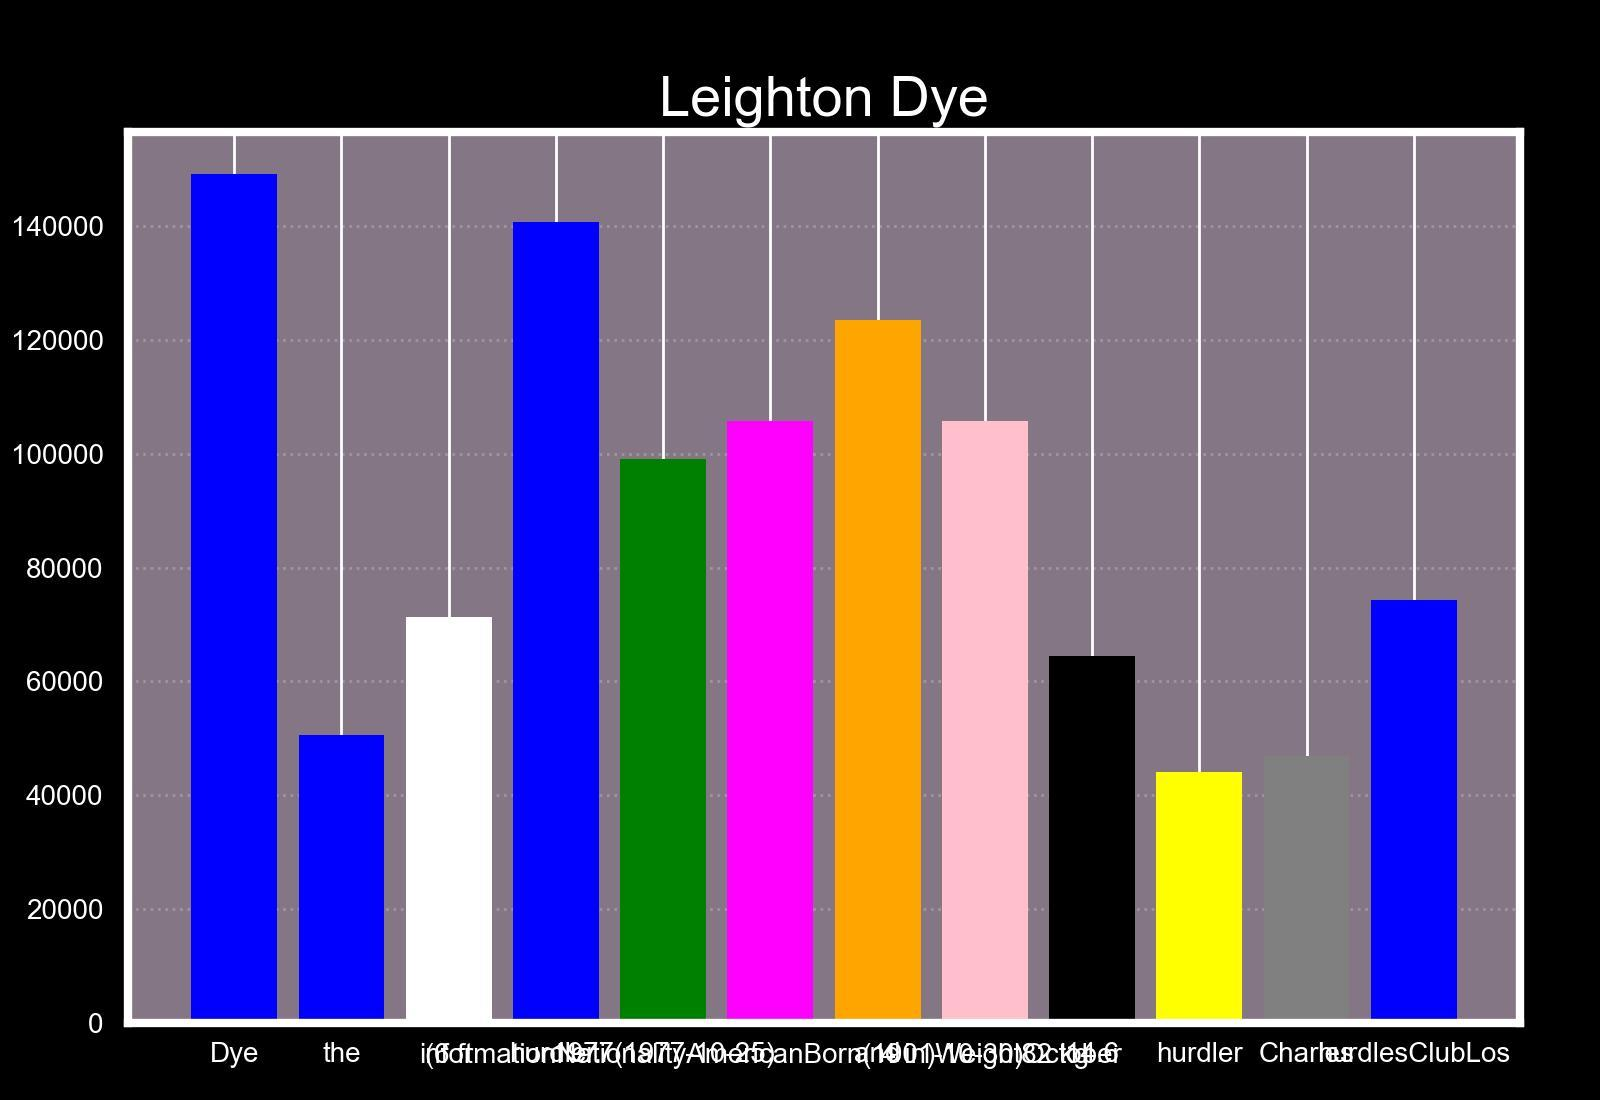axis: (0, 216, 105, 1039)
rectangle: (191, 174, 277, 1023), (513, 222, 599, 1023), (834, 320, 920, 1023), (727, 421, 813, 1023), (942, 421, 1029, 1023), (620, 459, 706, 1023), (1371, 600, 1457, 1023), (406, 617, 491, 1023), (1049, 656, 1136, 1023), (299, 735, 384, 1023), (1263, 756, 1350, 1023), (1156, 772, 1243, 1023)
